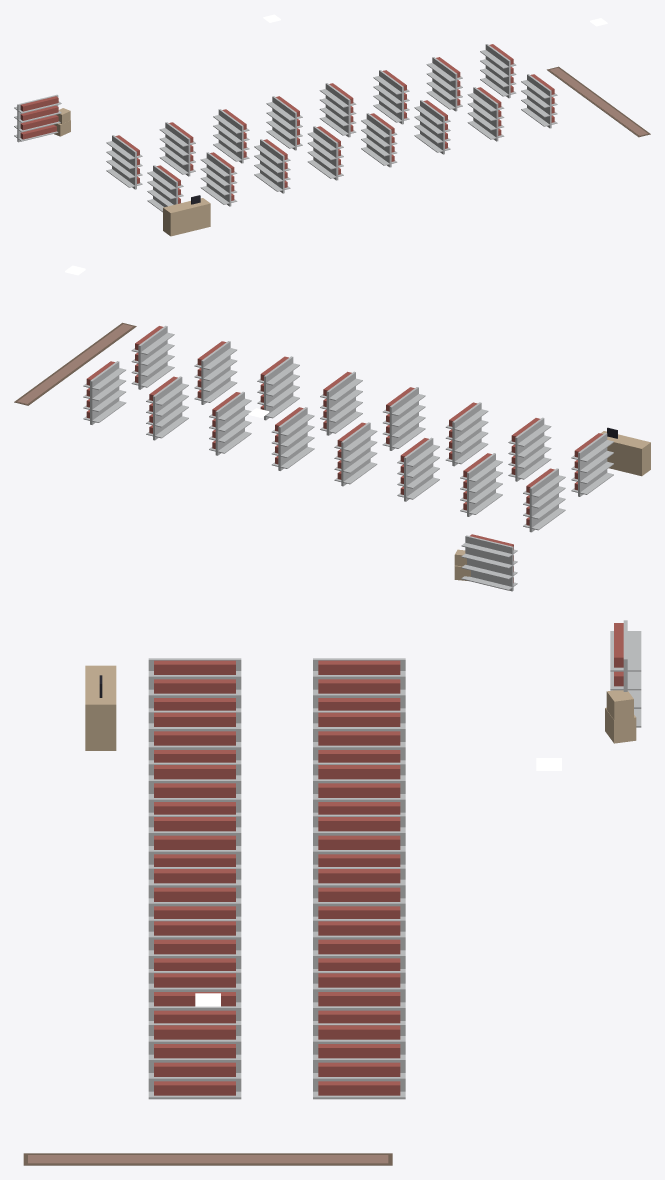
File: fine-s0.glb
3 views of the same model, one above another, from view 1: azimuth 30°, elevation 25°; view 2: azimuth 150°, elevation 25°; view 3: azimuth 270°, elevation 25° (orthographic). The views are drawn at different scales.
Visible parts, largest first — view 1: shelving.000, shop-counter.000, shelf.008, shelf.003, shelf.013, shelf.004, shelf.009, shelf.012, shelf.002, shelf.014, shelf.015, shelf.000 (+8 smaller); view 2: shelving.000, shelf.003, shelf.006, shelf.004, shelf.013, shelf.012, shelf.001, shelf.014, shelf.000, shelf.005, shelf.009, shelf.015 (+7 smaller); view 3: shelf.015, shelf.014, shelf.001, shelf.003, shelf.005, shelf.007, shelf.000, shelf.002, shelf.004, shelf.006, shelf.012, shelf.009 (+8 smaller).
Part boxes in pixels (left/top/right/bottom): shelving.000: left=14, top=94, right=61, bottom=142; shop-counter.000: left=163, top=195, right=210, bottom=236; shelf.008: left=319, top=83, right=356, bottom=137; shelf.003: left=200, top=152, right=237, bottom=206; shelf.013: left=467, top=87, right=504, bottom=141; shelf.004: left=213, top=109, right=249, bottom=163; shelf.009: left=361, top=113, right=397, bottom=167; shelf.012: left=426, top=57, right=462, bottom=111; shelf.002: left=159, top=122, right=195, bottom=176; shelf.014: left=480, top=44, right=516, bottom=98; shelf.015: left=521, top=74, right=557, bottom=128; shelf.000: left=106, top=135, right=142, bottom=189; shelving.000: left=461, top=534, right=517, bottom=591; shelf.003: left=508, top=417, right=551, bottom=481; shelf.006: left=334, top=422, right=377, bottom=486; shelf.004: left=397, top=437, right=439, bottom=501; shelf.013: left=194, top=341, right=237, bottom=404; shelf.012: left=146, top=376, right=188, bottom=440; shelf.001: left=571, top=433, right=613, bottom=496; shelf.014: left=83, top=361, right=126, bottom=424; shelf.000: left=523, top=468, right=565, bottom=532; shelf.005: left=445, top=402, right=488, bottom=466; shelf.009: left=320, top=371, right=362, bottom=435; shelf.015: left=131, top=325, right=174, bottom=389; shelf.015: left=148, top=1023, right=241, bottom=1099; shelf.014: left=313, top=1023, right=405, bottom=1099; shelf.001: left=148, top=658, right=241, bottom=710; shelf.003: left=148, top=710, right=241, bottom=762; shelf.005: left=148, top=762, right=241, bottom=814; shelf.007: left=148, top=814, right=241, bottom=866; shelf.000: left=313, top=658, right=405, bottom=710; shelf.002: left=313, top=710, right=405, bottom=762; shelf.004: left=313, top=762, right=405, bottom=814; shelf.006: left=313, top=814, right=405, bottom=866; shelf.012: left=313, top=971, right=405, bottom=1023; shelf.009: left=148, top=867, right=241, bottom=918.
Size of the model in its own units: 21.7 by 3.46 by 12.02.
